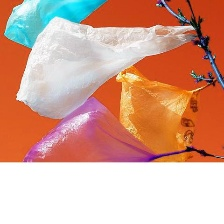plastic_bag: (13, 11, 203, 124), (18, 91, 202, 178), (113, 60, 219, 164), (2, 0, 110, 49)
